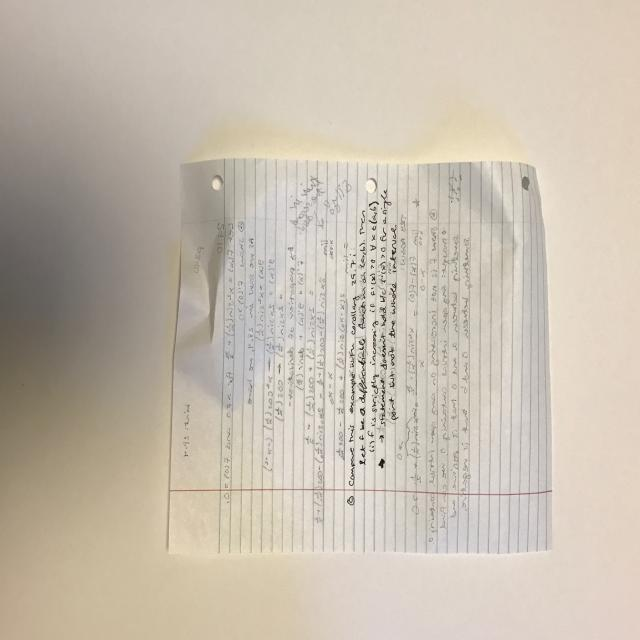paper: (167, 157, 553, 555)
